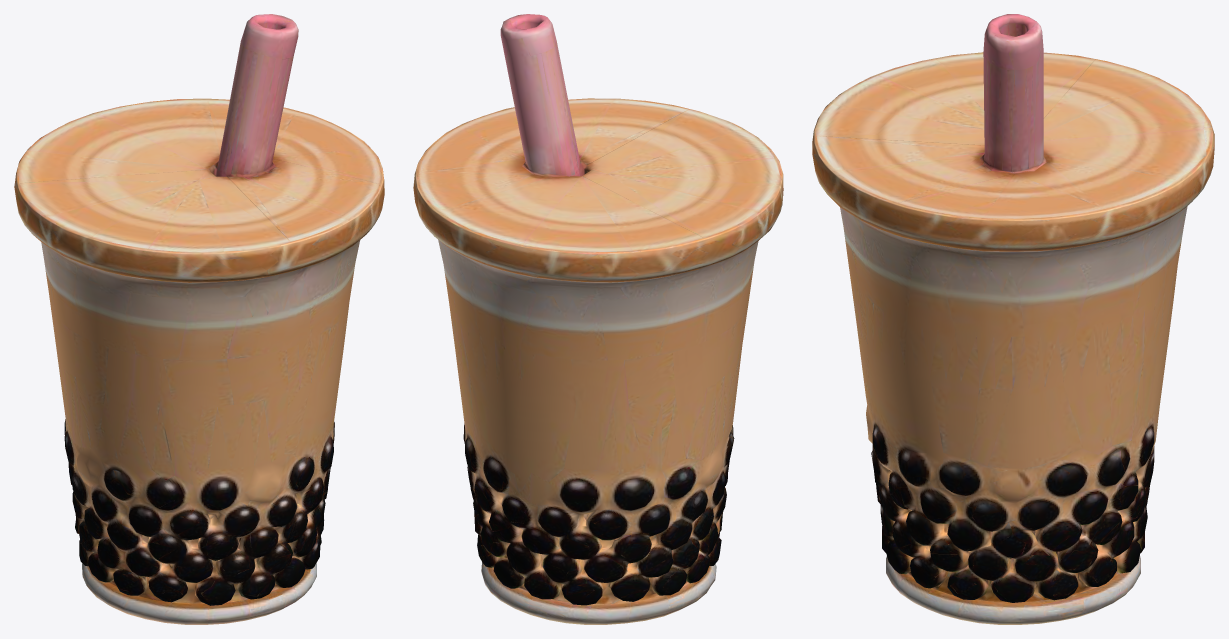
3 renders of one model, left to right at view 1: azimuth 30°, elevation 25°; view 2: azimuth 150°, elevation 25°; view 3: azimuth 270°, elevation 25°, orthographic. The views are drawn at different scales.
Size of the model in its own units: 1.18 by 1.91 by 1.18.
Materials: 1 (1 with a texture image).
